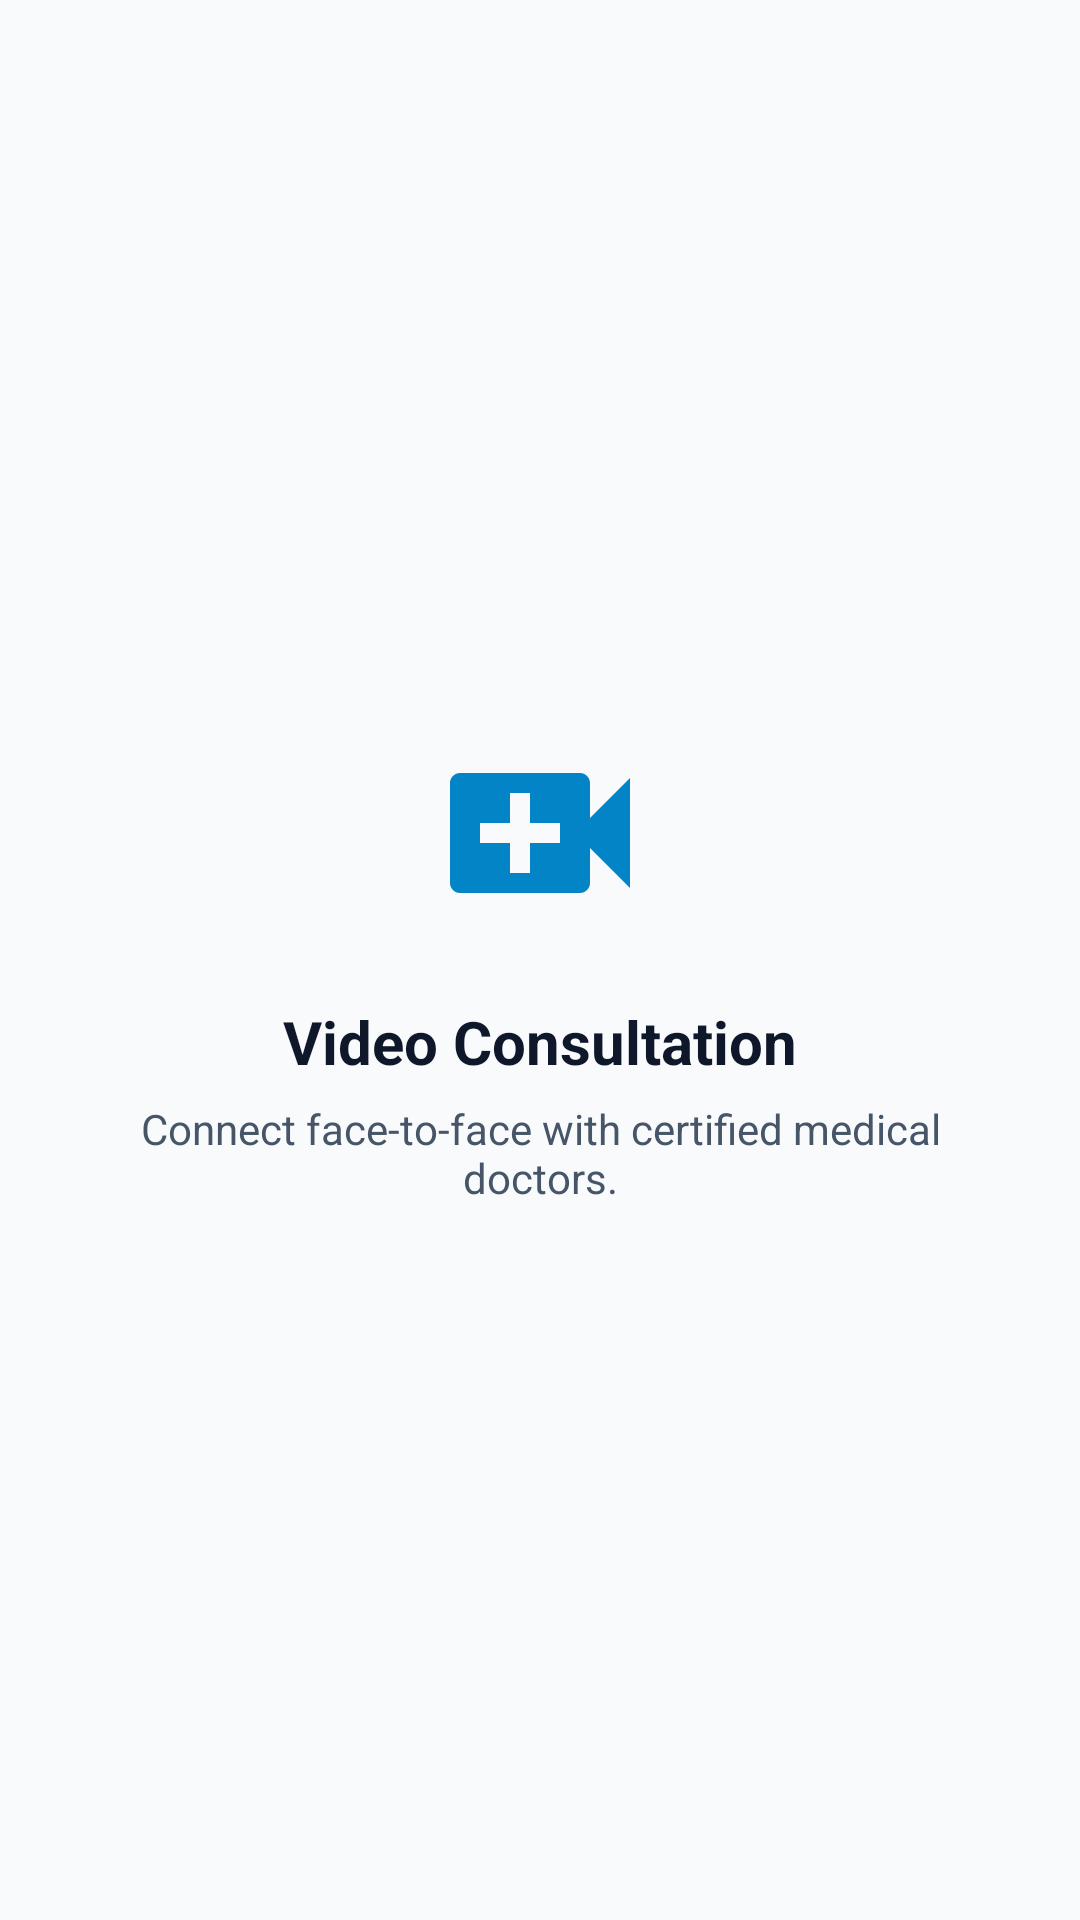

Screen size 1080*1920. Icon name, then its center in pixels as (x=x, y=y):
video call: (x=540, y=833)
